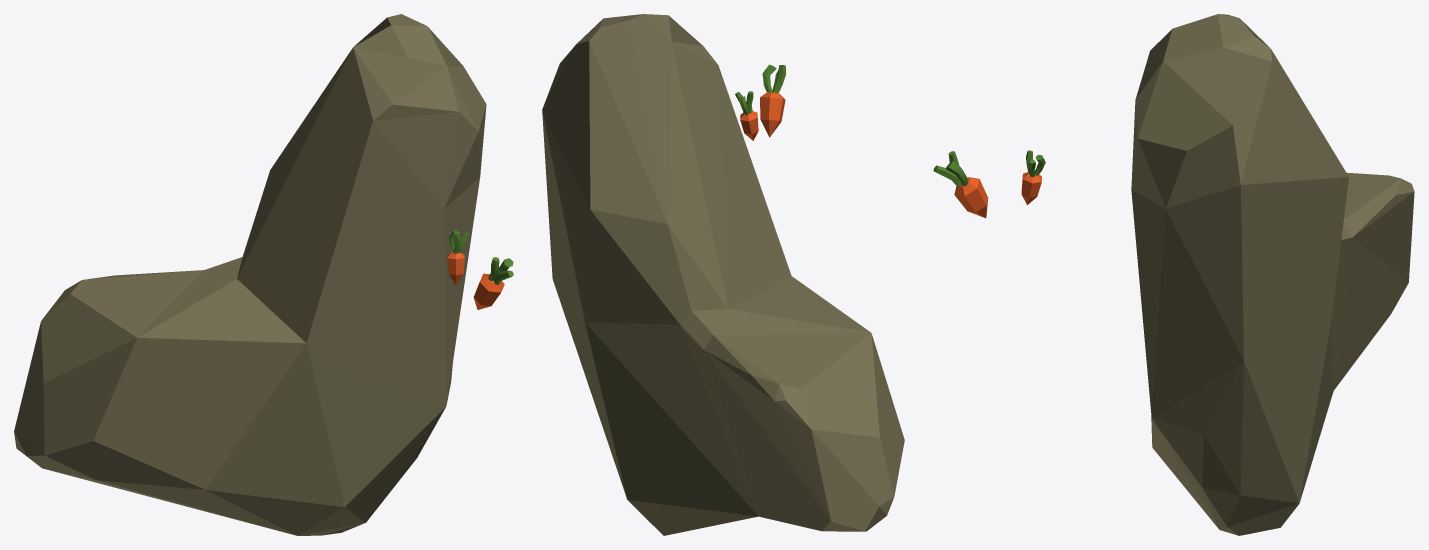
The picture shows the model from 3 angles, left to right: view 1: azimuth 30°, elevation 25°; view 2: azimuth 150°, elevation 25°; view 3: azimuth 270°, elevation 25°; orthographic projection. The views are drawn at different scales.
Parts seen in each view (by area): view 1: Box15533_rock2_0, Line1478_red2_0; view 2: Box15533_rock2_0, Line1478_red2_0, Line1478_green_0; view 3: Box15533_rock2_0, Line1478_red2_0, Line1478_green_0.
Part boxes in pixels (bbox=[...]): Box15533_rock2_0: bbox=[14, 14, 486, 535]; Line1478_red2_0: bbox=[473, 273, 504, 309]; Box15533_rock2_0: bbox=[542, 14, 904, 535]; Line1478_red2_0: bbox=[760, 92, 785, 137]; Line1478_green_0: bbox=[762, 64, 785, 93]; Box15533_rock2_0: bbox=[1131, 14, 1414, 535]; Line1478_red2_0: bbox=[954, 177, 988, 218]; Line1478_green_0: bbox=[933, 151, 967, 187].
Bounding box in the file's own units: 1151 × 1378 × 1107.
